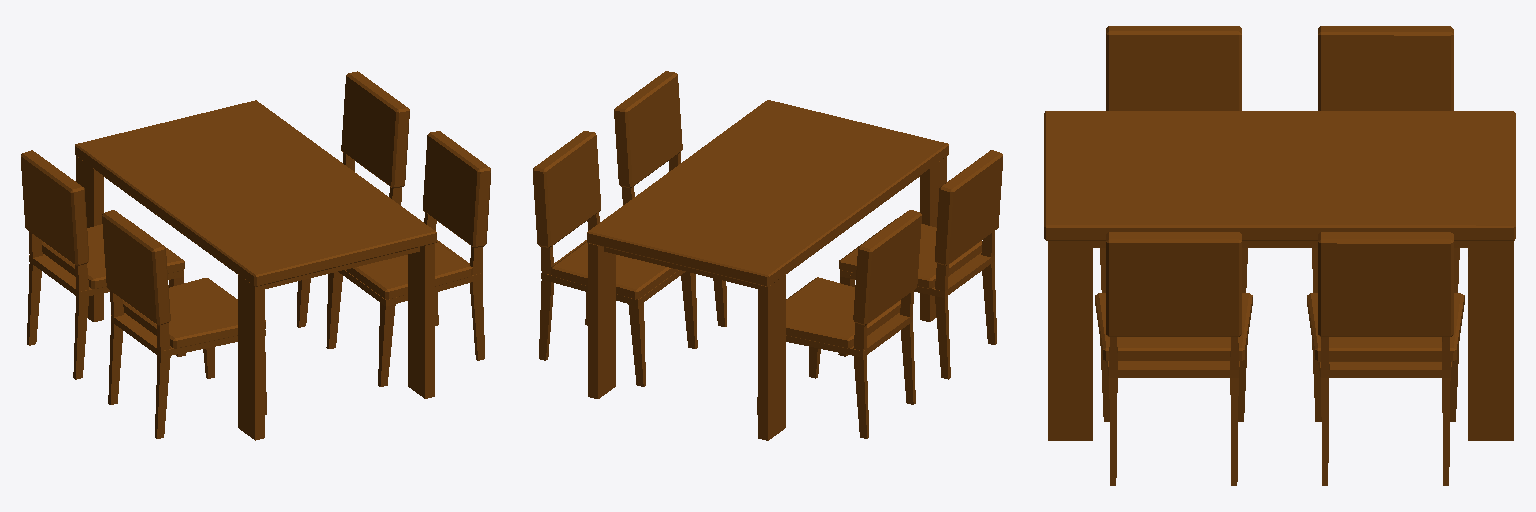
robot.urdf — dinigTable:
<?xml version="0.0" ?>
<robot name="dinigTable">
  <link name="diningTableLink">
  <contact>
      <lateral_friction value="1"/>
  </contact>
    <inertial>
      <origin rpy="0 0 0" xyz="2 1 0"/>
       <mass value=".0"/>
       <inertia ixx="0" ixy="0" ixz="0" iyy="0" iyz="0" izz="0"/>
    </inertial>
    <visual>
      <origin rpy="1.57 0 0" xyz="0 0 0"/>
      <geometry>
				<mesh filename="DiningTable/DiningTable.obj" scale="1.5 1.5 1.5"/> 
      </geometry>
       <material name="brown">
        <color rgba="0.5 0.3 0.1 1"/>
      </material>
    </visual>
     <collision>
      <origin rpy="1.57 0 0" xyz="0 0 0"/>
      <geometry>
        <box size="3 3.15 3"/>
      </geometry>
    </collision>
  </link>
</robot>
<!-- box size = x z y -->

--- What the picture shows (computed from the rendered views, not written in the file) ---
Views: 3 orthographic renders of the robot side by side, from view 1: azimuth 30°, elevation 25°; view 2: azimuth 150°, elevation 25°; view 3: azimuth 270°, elevation 25°.
Robot: dinigTable — 1 links, 0 joints (none); root link diningTableLink; default pose: all joints at 0.
Links seen in each view (by area): view 1: diningTableLink; view 2: diningTableLink; view 3: diningTableLink.
Boxes of the visible links, x1,y1,x2,y2 form: diningTableLink: [21, 71, 490, 440]; diningTableLink: [533, 71, 1002, 440]; diningTableLink: [1044, 26, 1515, 485].
Size in the robot's own frame: 3.43 by 3.17 by 1.87 metres.
1 mesh visuals loaded from 1 distinct referenced files (1 OBJ).